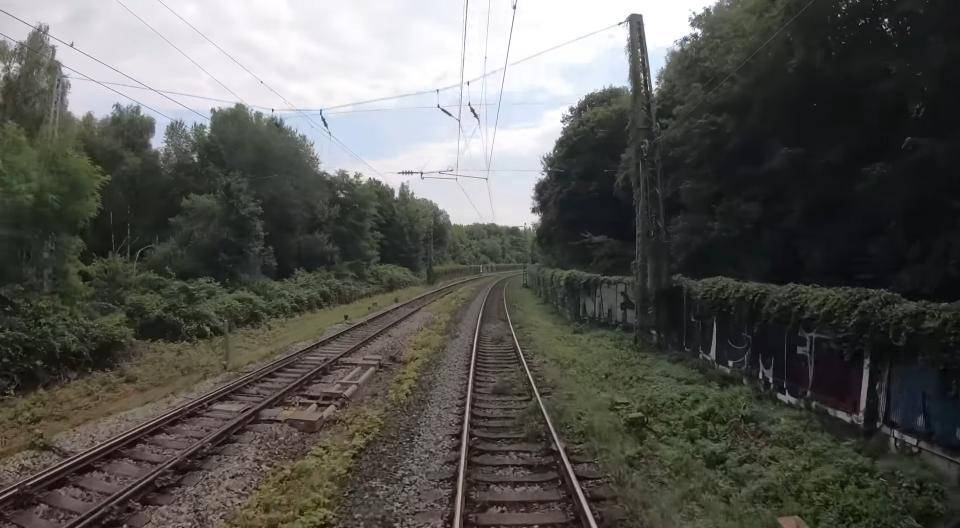Plant: (507, 277, 786, 528), (224, 287, 474, 528), (491, 378, 514, 394)
